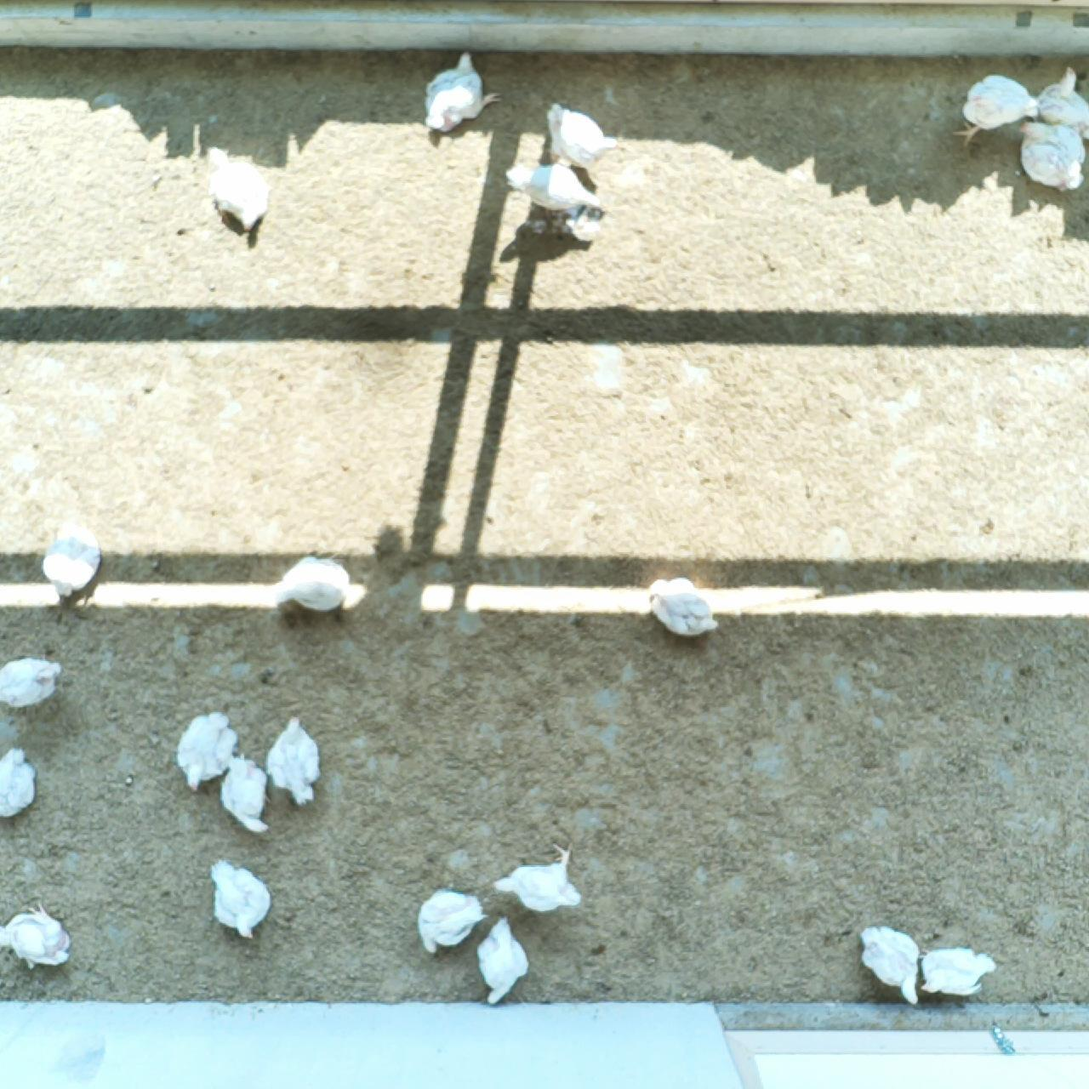chicken: (419, 50, 499, 137), (487, 841, 583, 912), (206, 142, 273, 239), (506, 159, 609, 220), (956, 73, 1045, 142), (856, 918, 921, 1009), (208, 858, 273, 944), (267, 714, 321, 811), (548, 99, 622, 168), (175, 713, 239, 792), (1020, 118, 1086, 193), (2, 902, 74, 968), (274, 553, 351, 614), (418, 889, 488, 955), (39, 522, 100, 597), (220, 753, 274, 836), (477, 915, 526, 1006), (920, 947, 1001, 1001), (645, 578, 717, 638), (1036, 65, 1086, 134), (1, 657, 63, 710), (2, 745, 37, 821)
